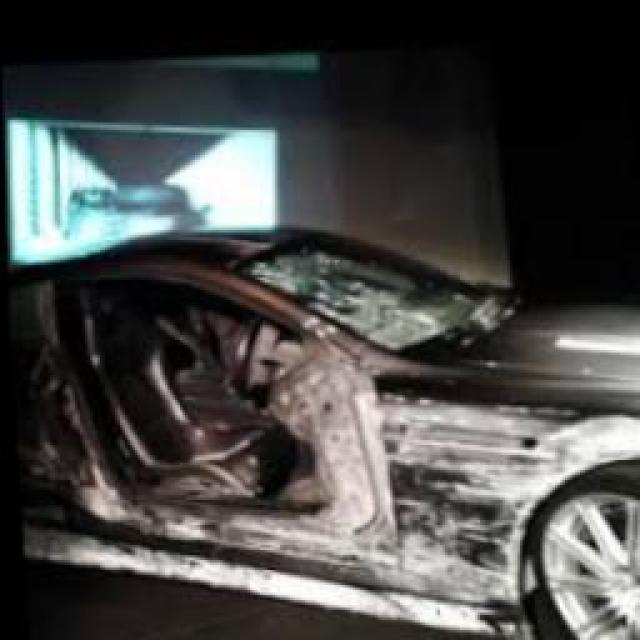Door: (48, 270, 391, 586)
Fender: (383, 354, 640, 609)
Windshield: (232, 230, 490, 348)
